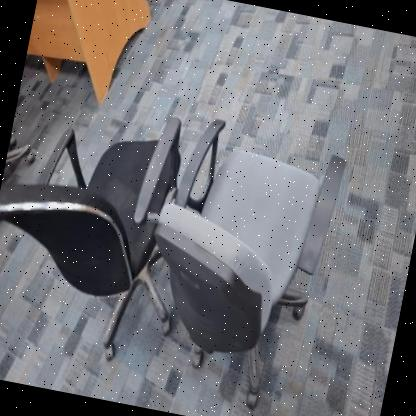chair: (120, 101, 351, 416), (0, 79, 200, 371)
